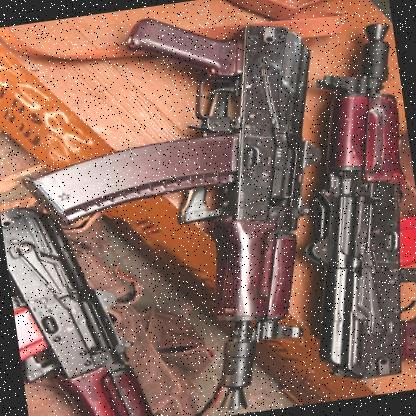rifle: (64, 9, 364, 416), (241, 13, 416, 391), (4, 179, 157, 416)
